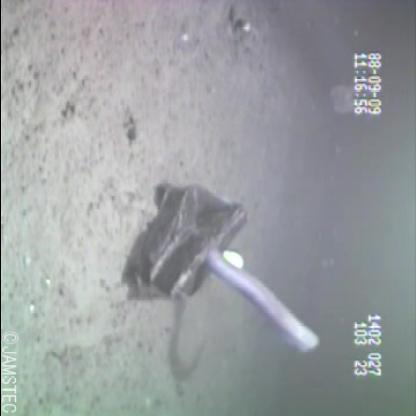Bio: (200, 242, 325, 358)
Rác: (117, 175, 254, 307)
